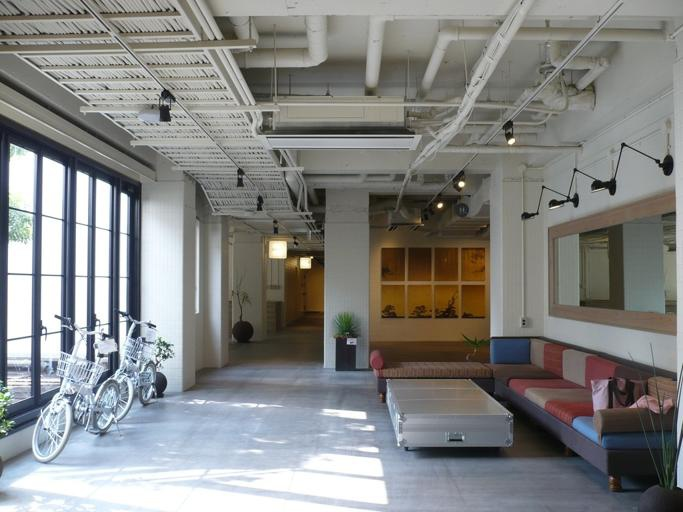non-vehicle: (31, 314, 120, 463), (112, 309, 157, 422)
